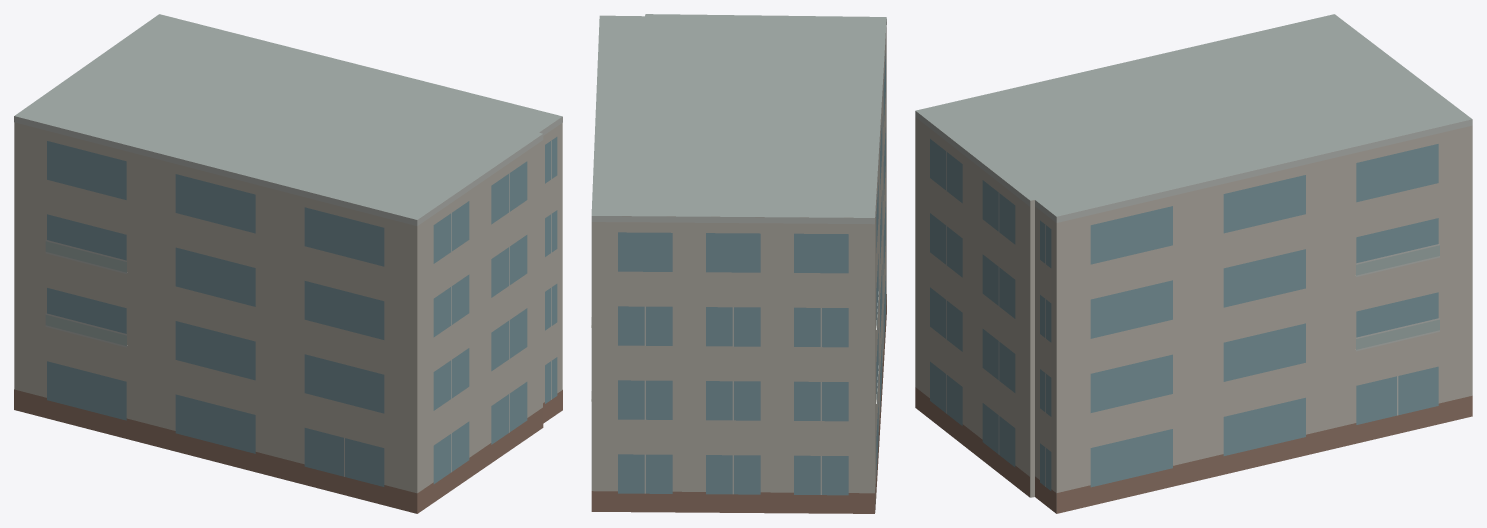
The model's file is survey-upis-32837510.glb.
The picture shows the model from 3 angles, left to right: view 1: azimuth 30°, elevation 25°; view 2: azimuth 150°, elevation 25°; view 3: azimuth 270°, elevation 25°; orthographic projection.
Visible parts, largest first — view 1: survey-upis-32837510.tmp; view 2: survey-upis-32837510.tmp; view 3: survey-upis-32837510.tmp.
Part boxes in pixels (x1,y1,x2,y2): survey-upis-32837510.tmp: [14, 14, 562, 513]; survey-upis-32837510.tmp: [591, 14, 886, 513]; survey-upis-32837510.tmp: [915, 14, 1472, 513].
Bounding box in the file's own units: 16.99 × 11.6 × 19.73.
